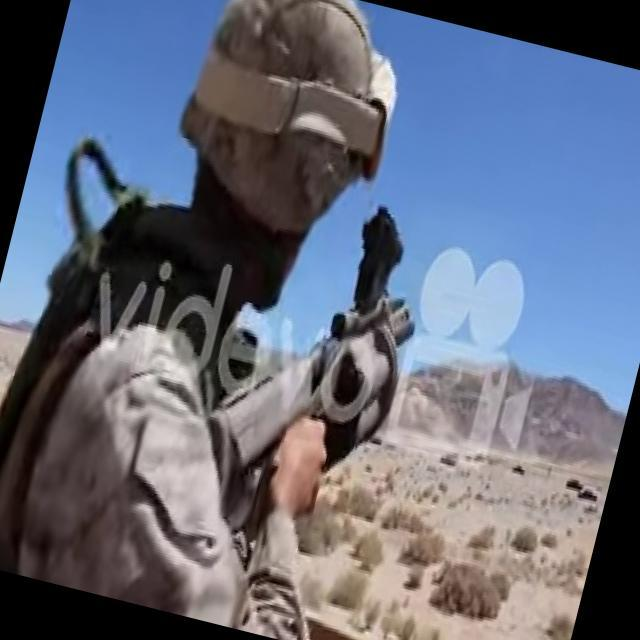rocket: (190, 179, 442, 555)
